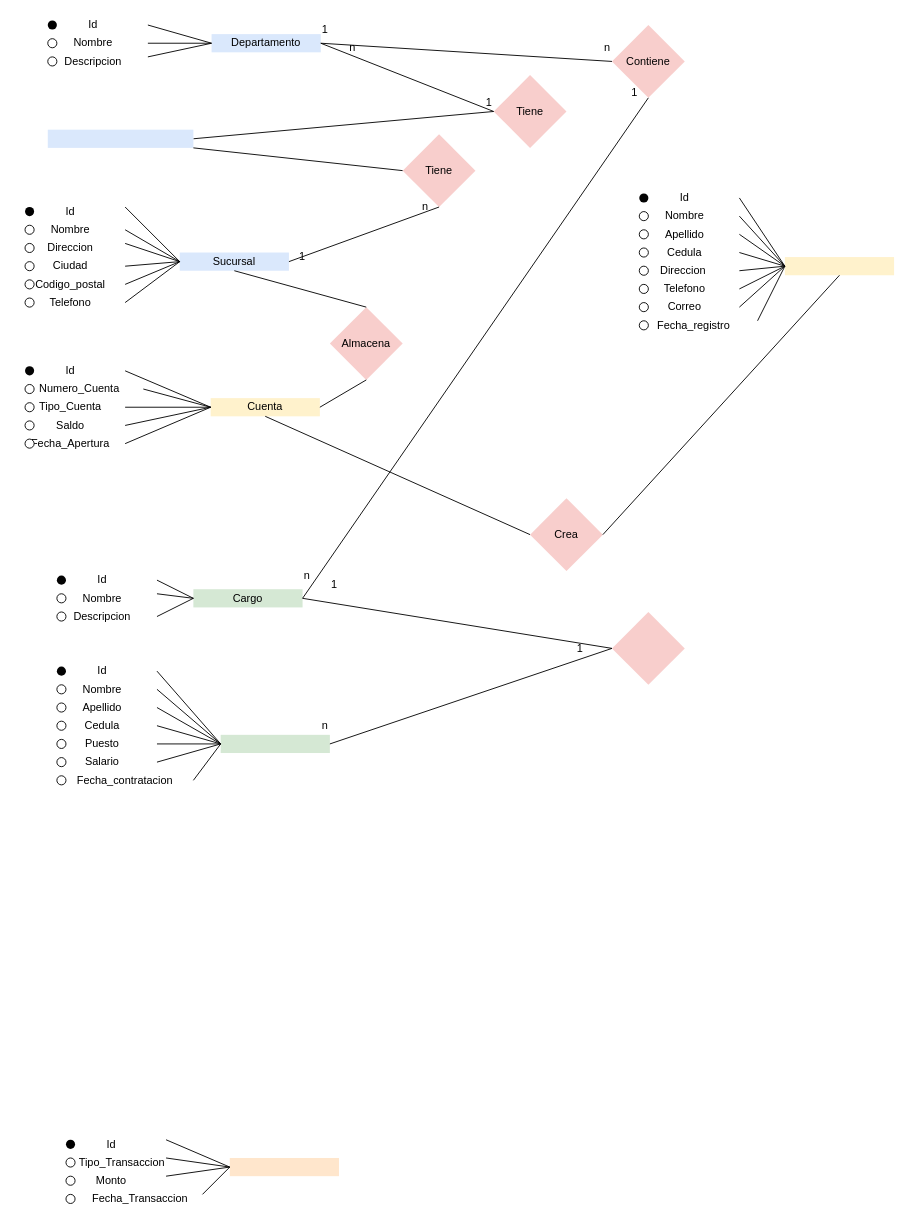
Some shapes in this 909 by 1223 pixel diagram are drawn without their labels. Each missing label, with the box of its shape:
Cliente: (784, 257, 894, 275)
Empleado: (220, 734, 329, 753)
Ocupa: (612, 612, 684, 684)
Sucursal_Departamento: (47, 129, 193, 147)
Transaccion: (229, 1158, 339, 1176)
